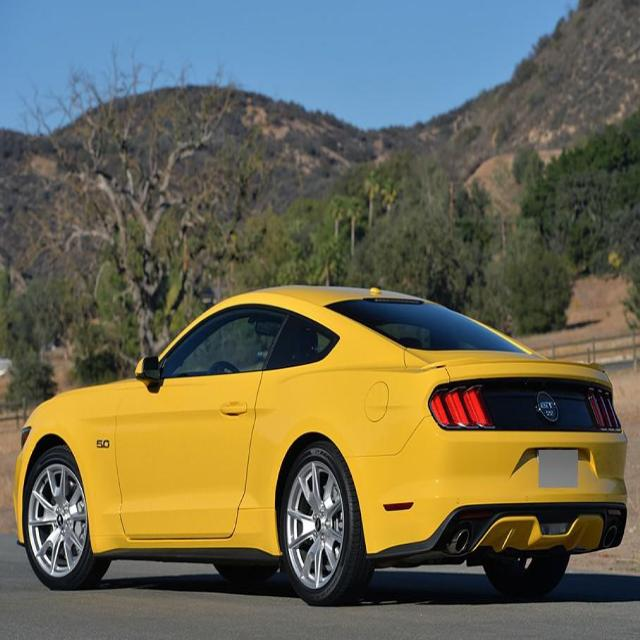back_glass: (322, 296, 532, 356)
back_left_side_light: (429, 375, 497, 436)
back_right_side_light: (586, 379, 622, 434)
front_left_side_door: (112, 295, 290, 542)
front_left_side_light: (17, 424, 34, 455)
front_left_side_mirror: (133, 352, 164, 388)
rear_bumper: (343, 409, 628, 560)
wheel: (280, 440, 367, 604), (24, 444, 109, 589)
